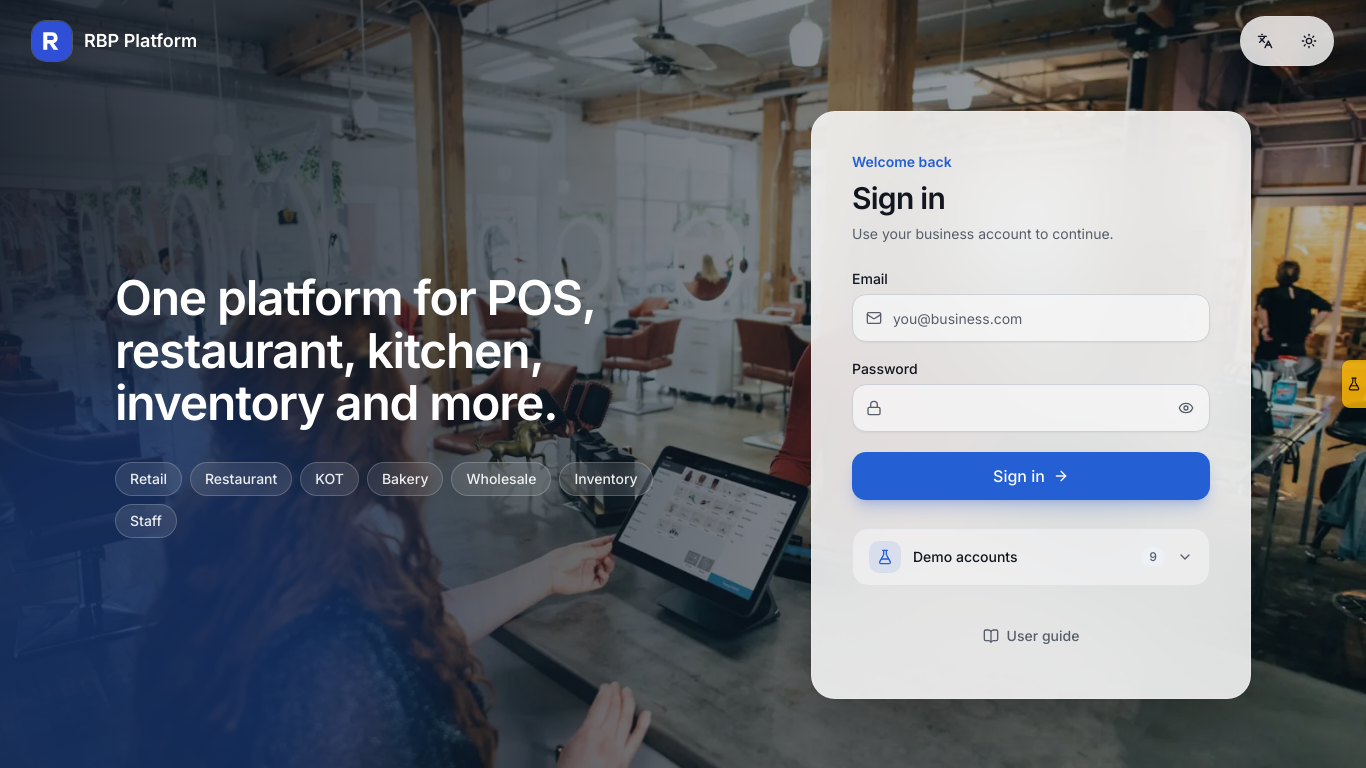
Test case: app shell flow › shows validation messages from shared Zod schemas
Click the button "Sign in" at [1031, 476], box [852, 452, 1210, 500]
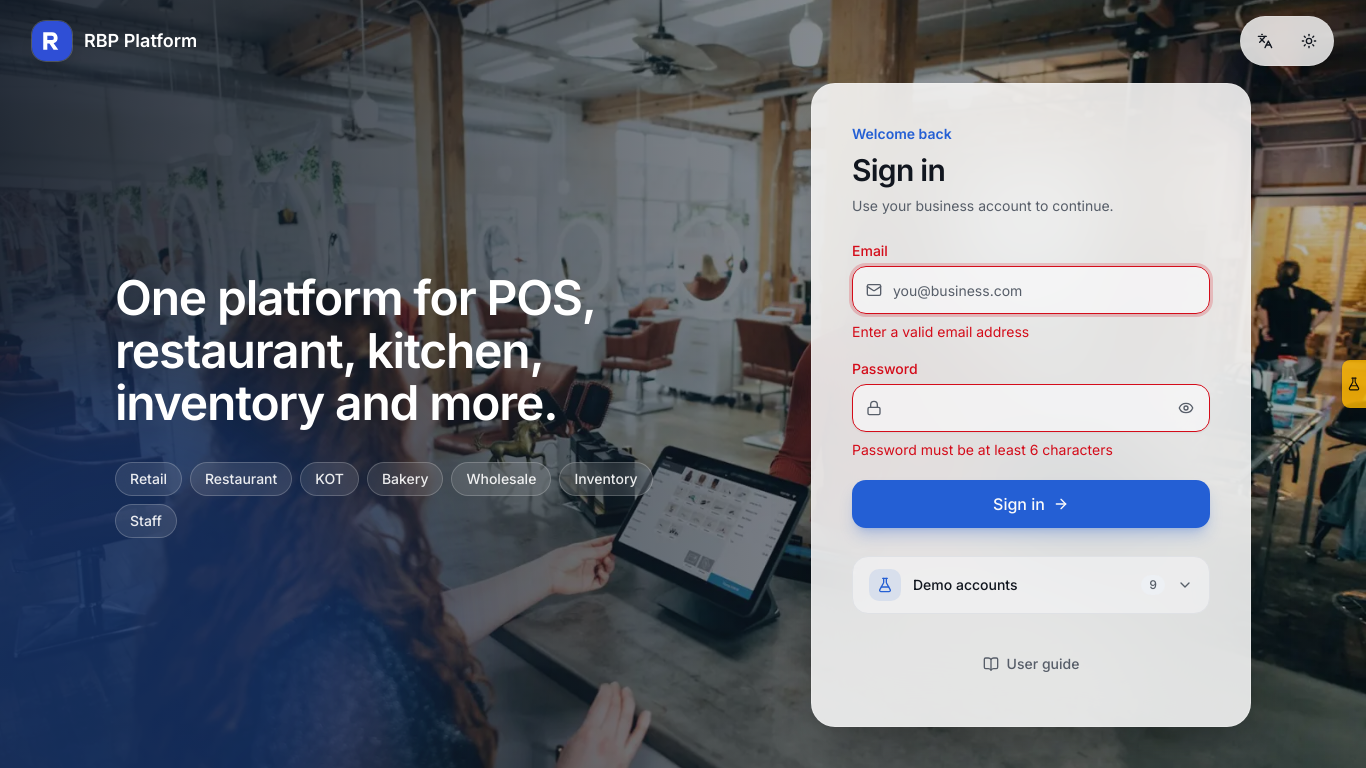
Expected: the text "Enter a valid email address" is shown, [852, 323, 1029, 340]
